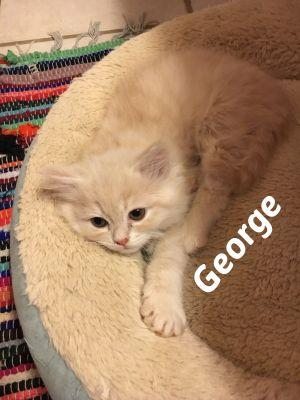persian: (46, 130, 181, 266)
